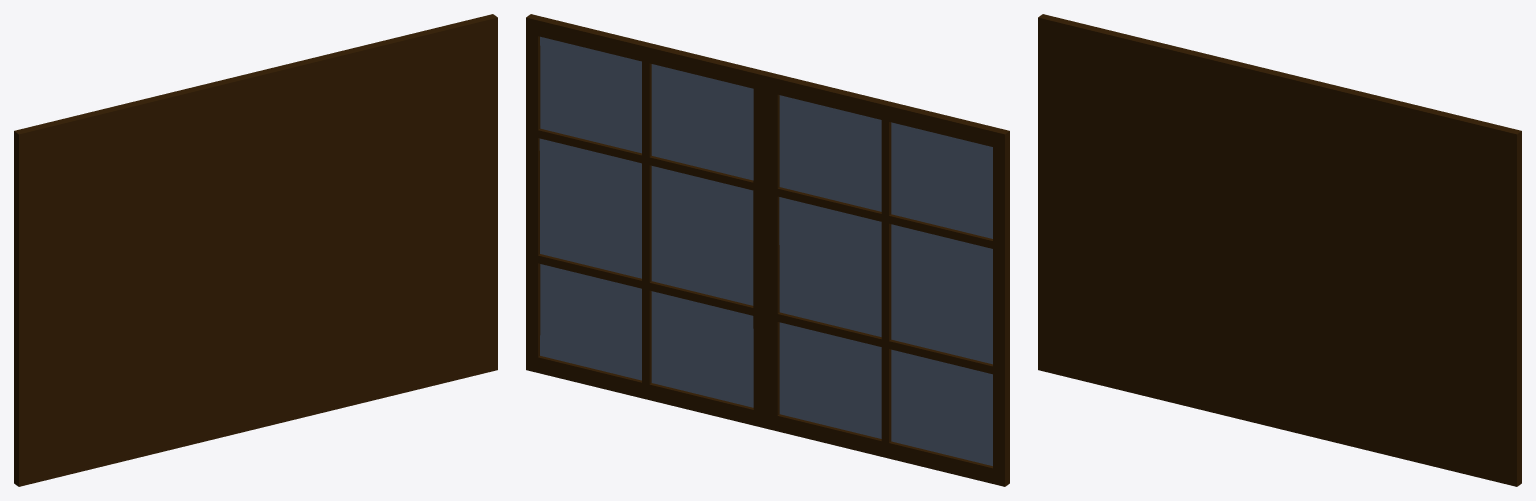
File: Classic_Window_03_snaps001.fbx
3 views of the same model, side by side, from view 1: azimuth 30°, elevation 25°; view 2: azimuth 150°, elevation 25°; view 3: azimuth 330°, elevation 25° (orthographic).
Parts seen in each view (by area): view 1: Classic_Window_03_snaps001_frag_006, Classic_Window_03_snaps001_frag_020, Classic_Window_03_snaps001_frag_022, Classic_Window_03_snaps001_frag_027, Classic_Window_03_snaps001_frag_032, Classic_Window_03_snaps001_frag_037, Classic_Window_03_snaps001_frag_035, Classic_Window_03_snaps001_frag_003, Classic_Window_03_snaps001_frag_018, Classic_Window_03_snaps001_frag_007, Classic_Window_03_snaps001_frag_010, Classic_Window_03_snaps001_frag_023 (+30 smaller); view 2: Classic_Window_03_snaps001_frag_020, Classic_Window_03_snaps001_frag_006, Classic_Window_03_snaps001_frag_022, Classic_Window_03_snaps001_frag_032, Classic_Window_03_snaps001_frag_027, Classic_Window_03_snaps001_frag_037, Classic_Window_03_snaps001_frag_018, Classic_Window_03_snaps001_frag_035, Classic_Window_03_snaps001_frag_007, Classic_Window_03_snaps001_frag_003, Classic_Window_03_snaps001_frag_036, Classic_Window_03_snaps001_frag_021 (+30 smaller); view 3: Classic_Window_03_snaps001_frag_020, Classic_Window_03_snaps001_frag_006, Classic_Window_03_snaps001_frag_022, Classic_Window_03_snaps001_frag_027, Classic_Window_03_snaps001_frag_032, Classic_Window_03_snaps001_frag_037, Classic_Window_03_snaps001_frag_007, Classic_Window_03_snaps001_frag_035, Classic_Window_03_snaps001_frag_003, Classic_Window_03_snaps001_frag_018, Classic_Window_03_snaps001_frag_036, Classic_Window_03_snaps001_frag_023 (+30 smaller).
Part boxes in pixels (x1=…): Classic_Window_03_snaps001_frag_006: x1=246, y1=43, x2=379, y2=158; Classic_Window_03_snaps001_frag_020: x1=386, y1=25, x2=497, y2=164; Classic_Window_03_snaps001_frag_022: x1=14, y1=394, x2=126, y2=486; Classic_Window_03_snaps001_frag_027: x1=161, y1=74, x2=251, y2=195; Classic_Window_03_snaps001_frag_032: x1=342, y1=31, x2=429, y2=163; Classic_Window_03_snaps001_frag_037: x1=311, y1=161, x2=390, y2=285; Classic_Window_03_snaps001_frag_035: x1=14, y1=223, x2=87, y2=319; Classic_Window_03_snaps001_frag_003: x1=72, y1=92, x2=177, y2=179; Classic_Window_03_snaps001_frag_018: x1=205, y1=80, x2=297, y2=203; Classic_Window_03_snaps001_frag_007: x1=378, y1=315, x2=497, y2=398; Classic_Window_03_snaps001_frag_010: x1=171, y1=270, x2=259, y2=361; Classic_Window_03_snaps001_frag_023: x1=256, y1=248, x2=352, y2=345; Classic_Window_03_snaps001_frag_020: x1=526, y1=24, x2=637, y2=163; Classic_Window_03_snaps001_frag_006: x1=644, y1=43, x2=777, y2=156; Classic_Window_03_snaps001_frag_022: x1=899, y1=391, x2=1009, y2=486; Classic_Window_03_snaps001_frag_032: x1=595, y1=30, x2=683, y2=163; Classic_Window_03_snaps001_frag_027: x1=773, y1=74, x2=864, y2=193; Classic_Window_03_snaps001_frag_037: x1=635, y1=160, x2=714, y2=282; Classic_Window_03_snaps001_frag_018: x1=727, y1=79, x2=821, y2=202; Classic_Window_03_snaps001_frag_035: x1=938, y1=221, x2=1009, y2=319; Classic_Window_03_snaps001_frag_007: x1=526, y1=315, x2=644, y2=398; Classic_Window_03_snaps001_frag_003: x1=846, y1=92, x2=953, y2=178; Classic_Window_03_snaps001_frag_036: x1=526, y1=138, x2=585, y2=252; Classic_Window_03_snaps001_frag_021: x1=809, y1=355, x2=901, y2=435; Classic_Window_03_snaps001_frag_020: x1=1405, y1=138, x2=1521, y2=254; Classic_Window_03_snaps001_frag_006: x1=1269, y1=70, x2=1402, y2=199; Classic_Window_03_snaps001_frag_022: x1=1038, y1=318, x2=1145, y2=393; Classic_Window_03_snaps001_frag_027: x1=1180, y1=53, x2=1273, y2=166; Classic_Window_03_snaps001_frag_032: x1=1361, y1=102, x2=1452, y2=225; Classic_Window_03_snaps001_frag_037: x1=1330, y1=204, x2=1409, y2=330; Classic_Window_03_snaps001_frag_007: x1=1398, y1=426, x2=1521, y2=486; Classic_Window_03_snaps001_frag_035: x1=1038, y1=119, x2=1106, y2=219; Classic_Window_03_snaps001_frag_003: x1=1091, y1=30, x2=1201, y2=105; Classic_Window_03_snaps001_frag_018: x1=1224, y1=77, x2=1316, y2=189; Classic_Window_03_snaps001_frag_036: x1=1459, y1=252, x2=1521, y2=342; Classic_Window_03_snaps001_frag_023: x1=1275, y1=274, x2=1371, y2=354.
Bounding box in the file's own units: 78.74 × 55.36 × 1.38.
